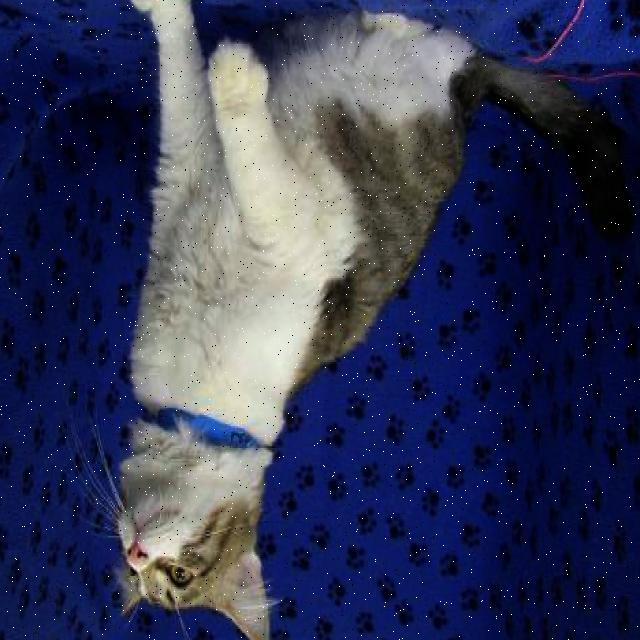Cat: (107, 460, 272, 619)
